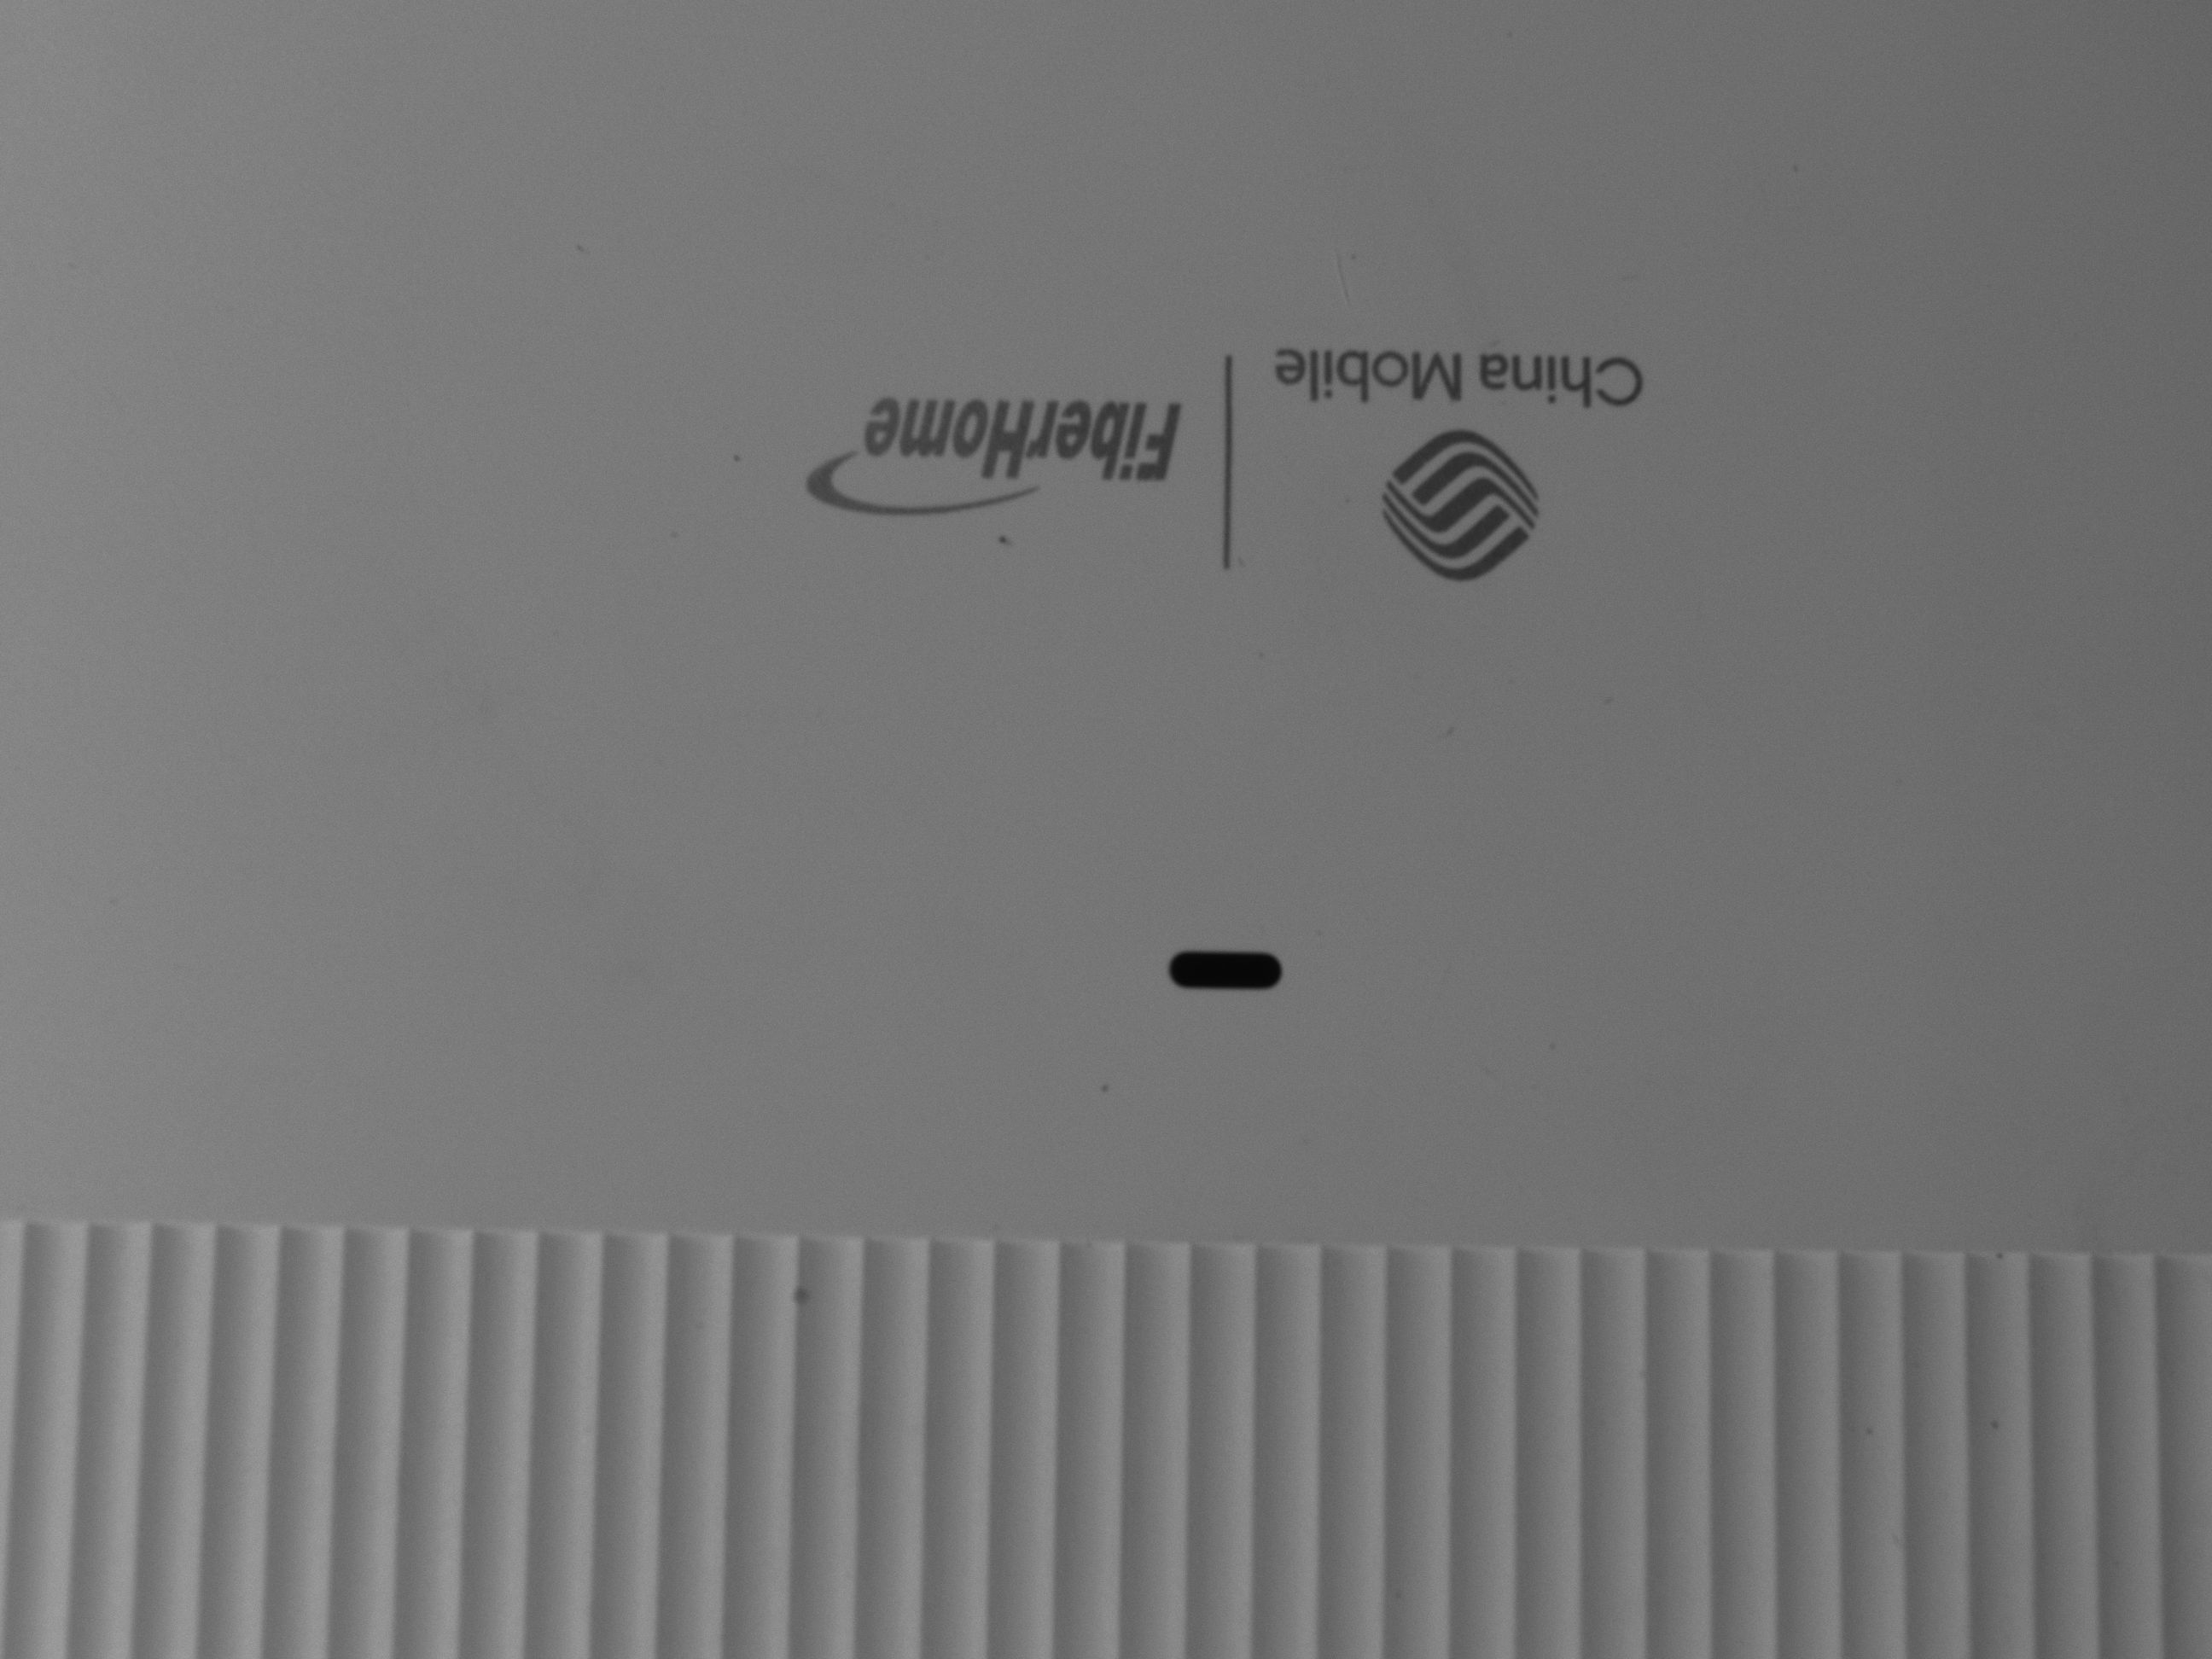BX_HG6371FMobileFiberhome: (787, 301, 1670, 592)
